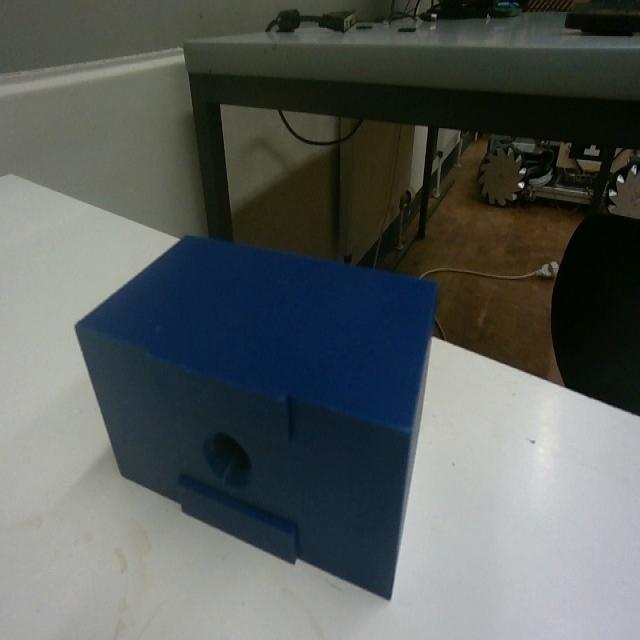Blue Cuboid: (73, 228, 440, 600)
